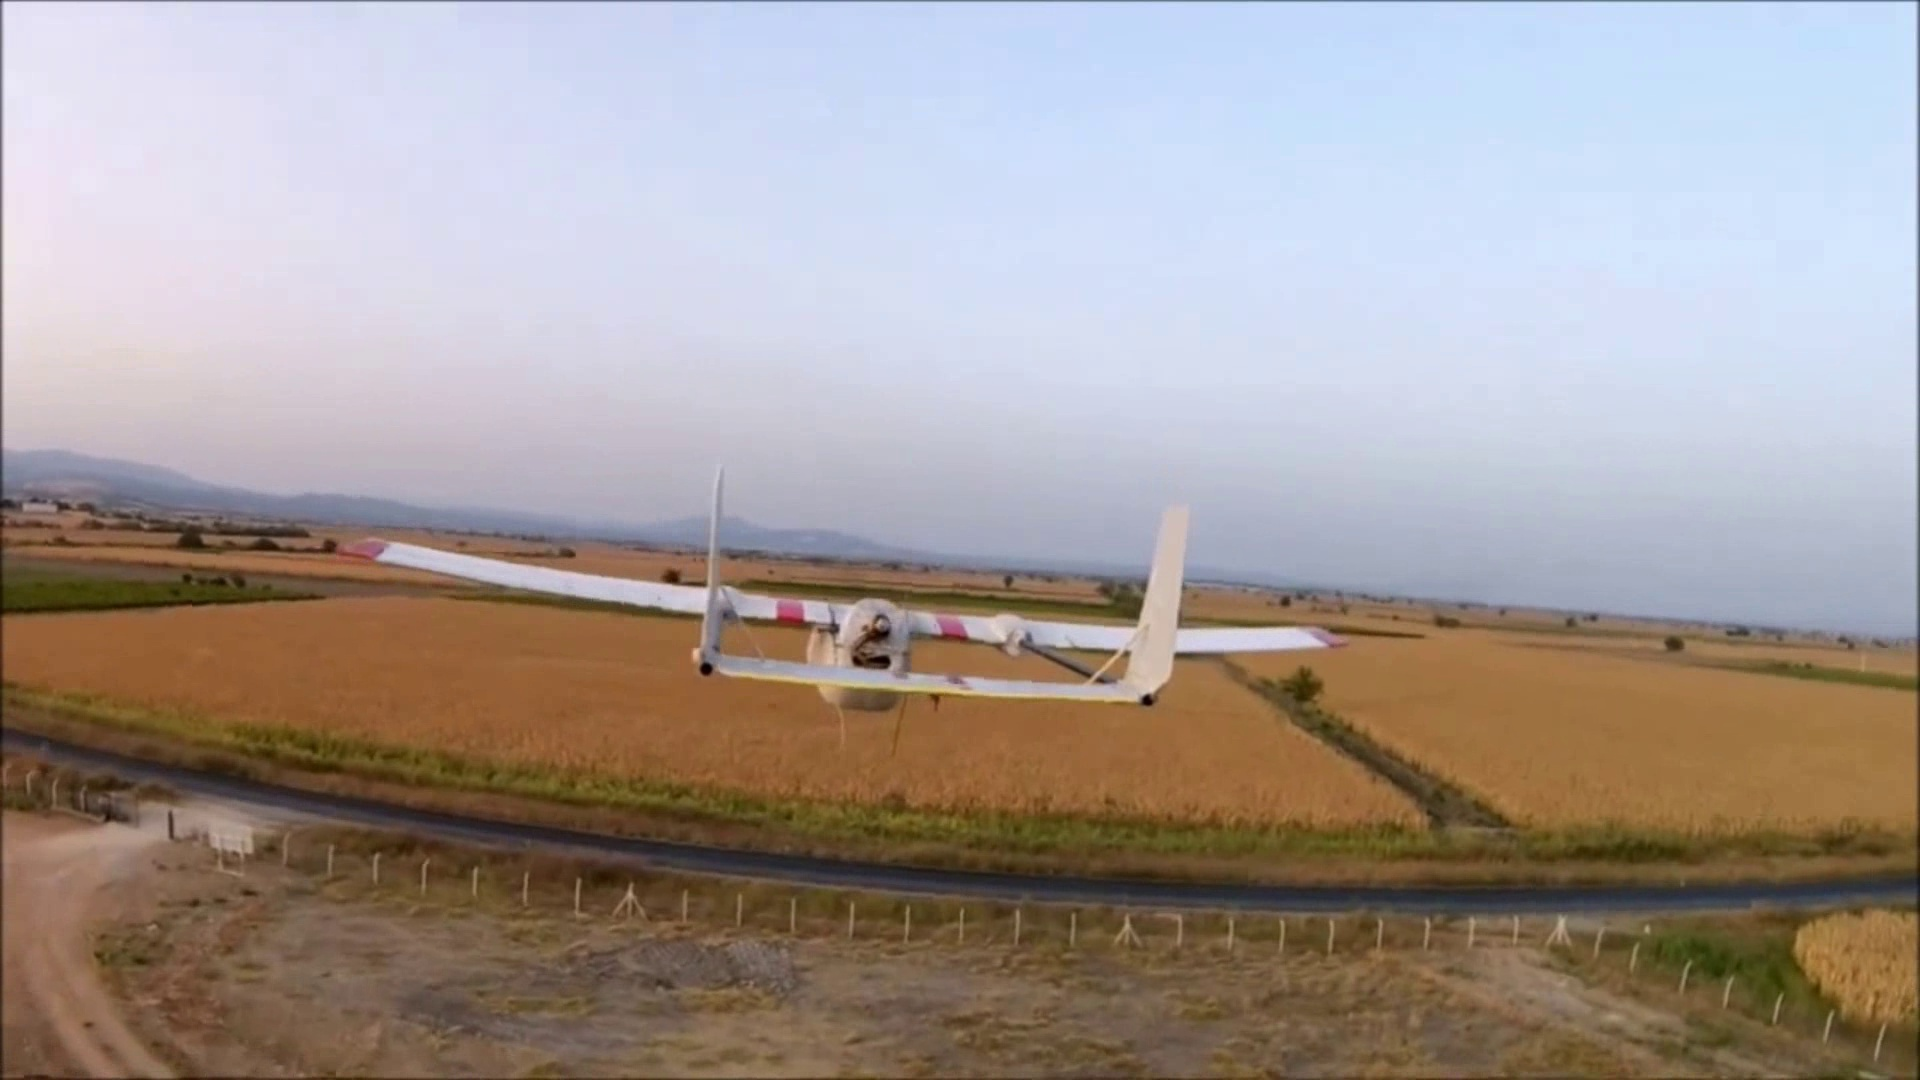airplane: (310, 468, 1339, 709)
